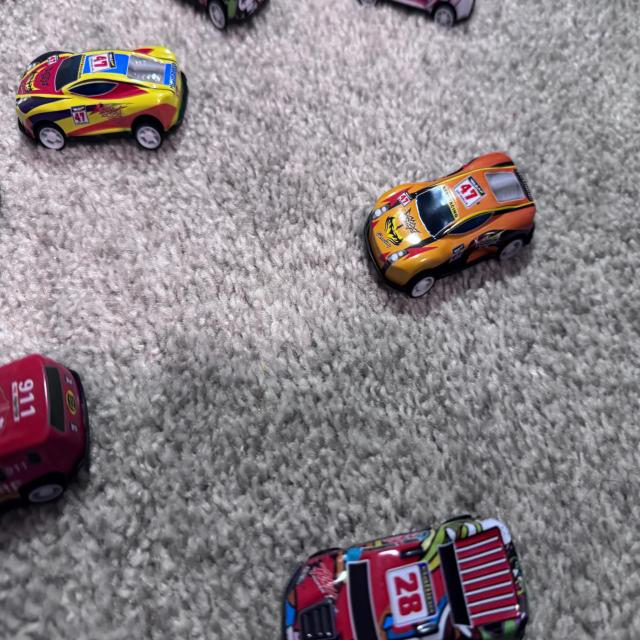car: (257, 506, 545, 640), (354, 125, 560, 302), (2, 36, 214, 194)
